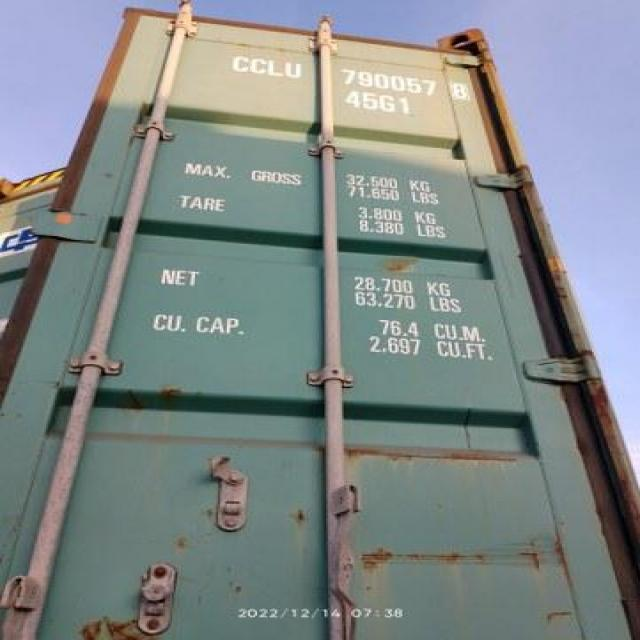container_number_h: (222, 34, 537, 151)
